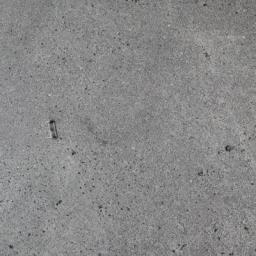FOD: (42, 118, 62, 143)
